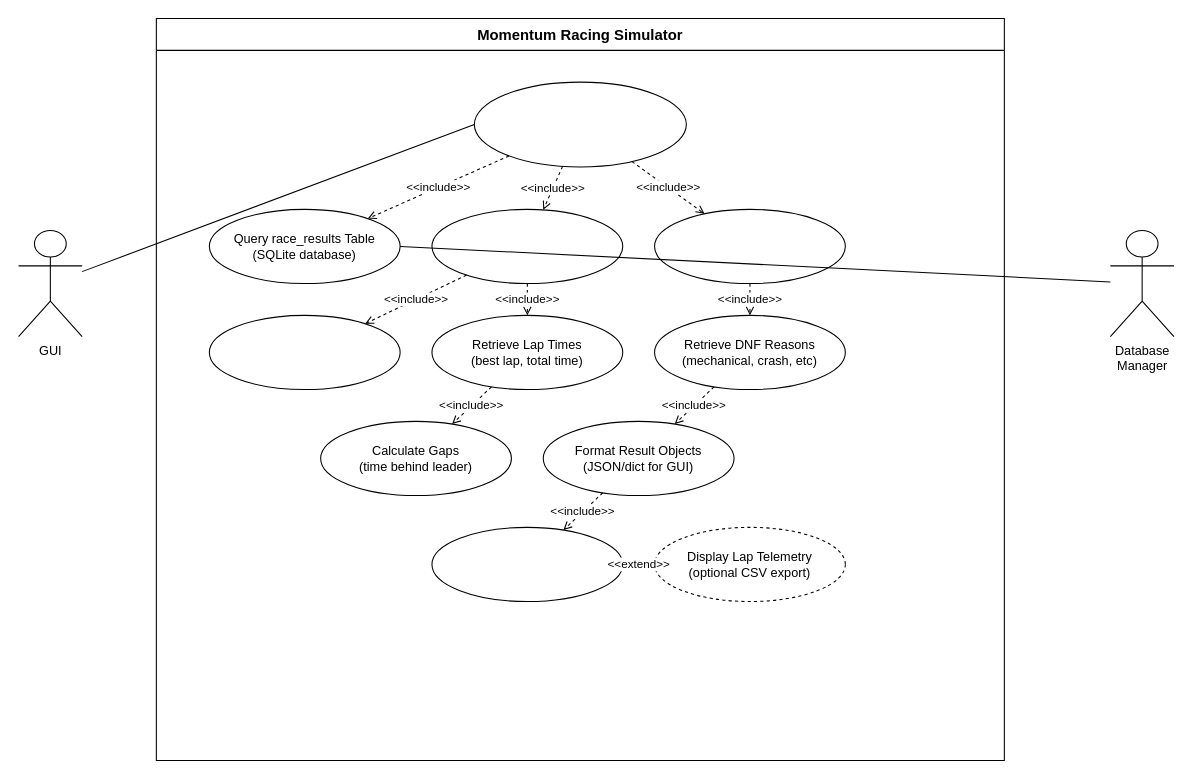
Image size: 1192x779. Some labels were removed from this diagram. Each missing label, with the centre of its shape:
Display Standings Table (GUI PyQt6 widget): the point at 527,564
Join with drivers Table (driver names, teams): the point at 527,246
Join with teams Table (team branding, names): the point at 749,246
Read Race Results: the point at 579,124
Retrieve Positions (finishing order 1-N): the point at 304,352
